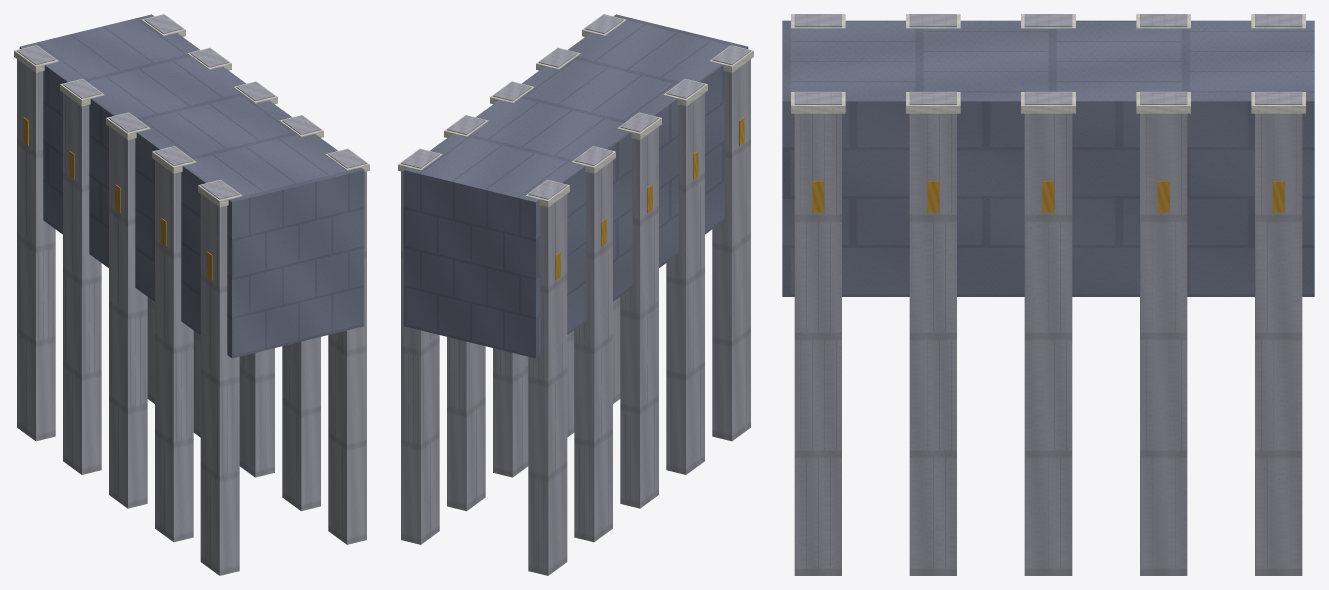
Rendered from high_crown_stair_support.obj.
3 renders of one model, left to right at view 1: azimuth 30°, elevation 25°; view 2: azimuth 150°, elevation 25°; view 3: azimuth 270°, elevation 25°, orthographic. The views are drawn at different scales.
Parts seen in each view (by area): view 1: high_crown_stair_support; view 2: high_crown_stair_support; view 3: high_crown_stair_support.
Part boxes in pixels (x1=…): high_crown_stair_support: x1=14, y1=14, x2=369, y2=575; high_crown_stair_support: x1=398, y1=14, x2=753, y2=575; high_crown_stair_support: x1=782, y1=14, x2=1314, y2=575.
Bounding box in the file's own units: 15.1 × 36.2 × 37.
4 materials, 4 textured.
